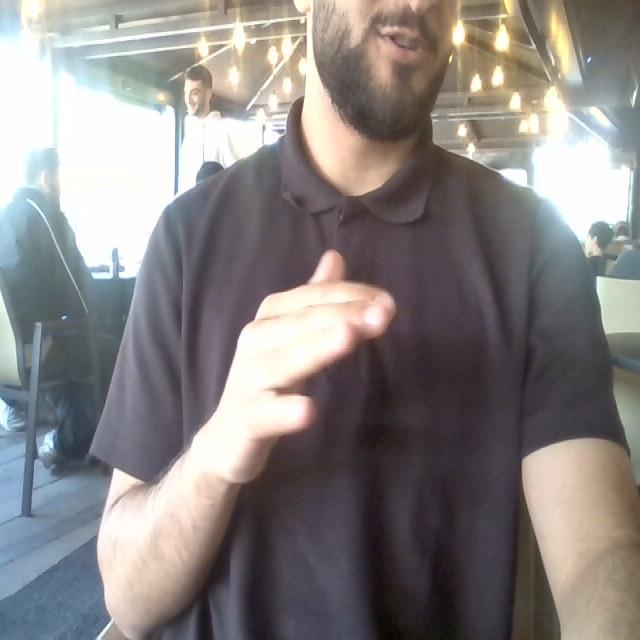Hand: (197, 251, 394, 483)
